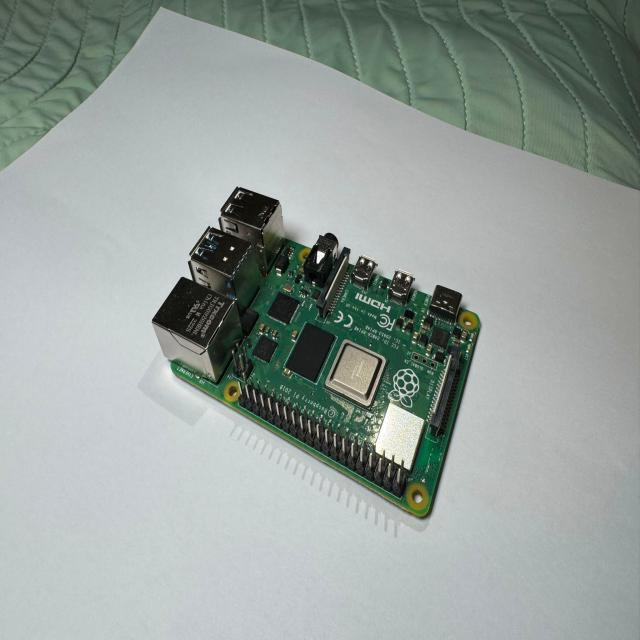CPU: (321, 338, 389, 408)
Ethernet: (150, 279, 237, 388)
GPIO: (234, 375, 413, 499)
RAM: (283, 320, 340, 388)
Raspberry: (151, 191, 482, 527)
micro-hdmi: (353, 255, 376, 289), (388, 269, 409, 306)
